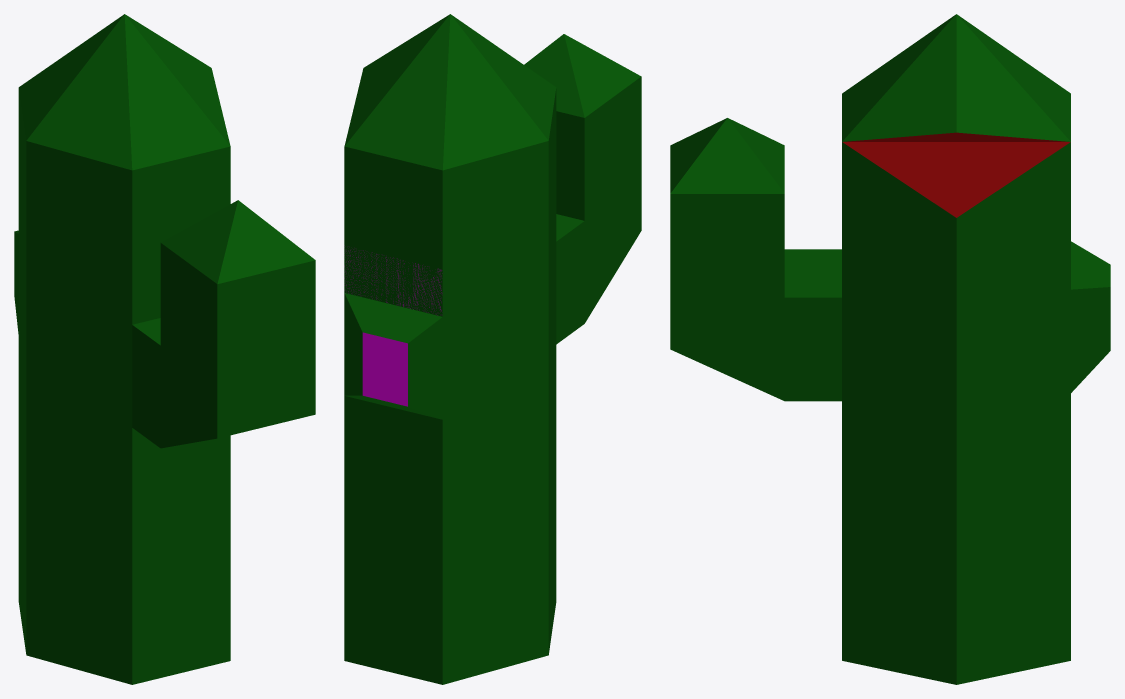
Rendered from cactuswatered.obj.
3 renders of one model, left to right at view 1: azimuth 30°, elevation 25°; view 2: azimuth 150°, elevation 25°; view 3: azimuth 270°, elevation 25°, orthographic.
Parts seen in each view (by area): view 1: cactuswatered_back; view 2: cactuswatered_back, cactuswatered_front; view 3: cactuswatered_back, cactuswatered_front.
Boxes of the visible parts, x1,y1,x2,y2 form: cactuswatered_back: (18, 14, 315, 684); cactuswatered_back: (344, 14, 641, 684); cactuswatered_front: (344, 293, 442, 419); cactuswatered_back: (670, 14, 1070, 684); cactuswatered_front: (1071, 241, 1110, 392).
Bounding box in the file's own units: 0.52 × 1.56 × 1.
